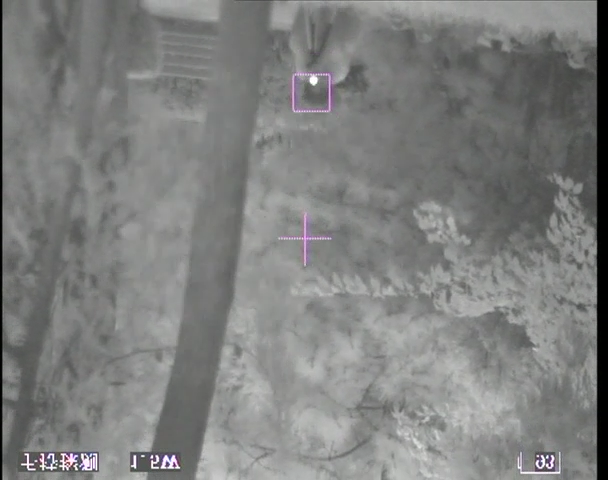my: (309, 75, 319, 86)
